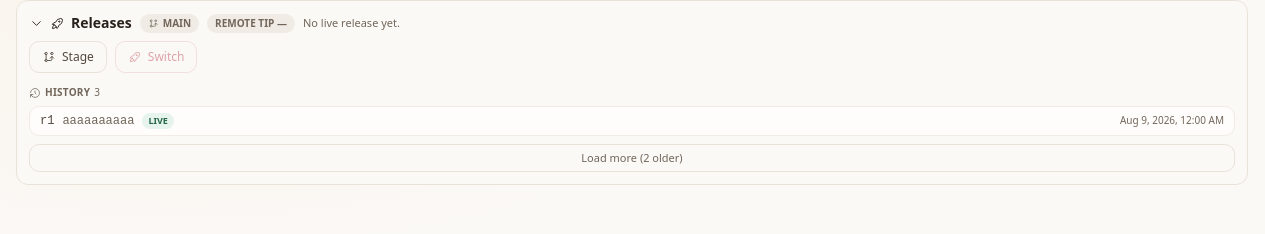
Test: ReleasePanel › shows a load-more control when more history exists, and appends the next page
The width and height of the screenshot is (1265, 234).
Expected: the text "r1" is shown, [40,113,54,129]
Expected: the text "History 3" is shown, [29,85,100,99]
Click the button "Load more (2 older)" at (632, 158), box [29,144,1235,172]
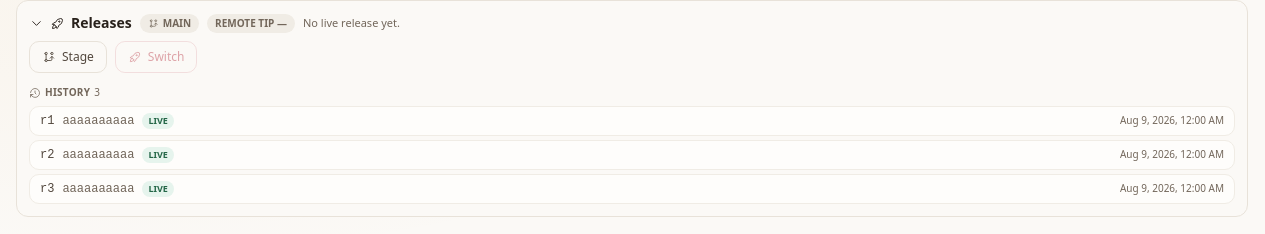
Expected: the text "r2" is shown, [40,147,54,163]
Expected: the text "r3" is shown, [40,181,54,197]
Expected: the button "Load more" is gone
